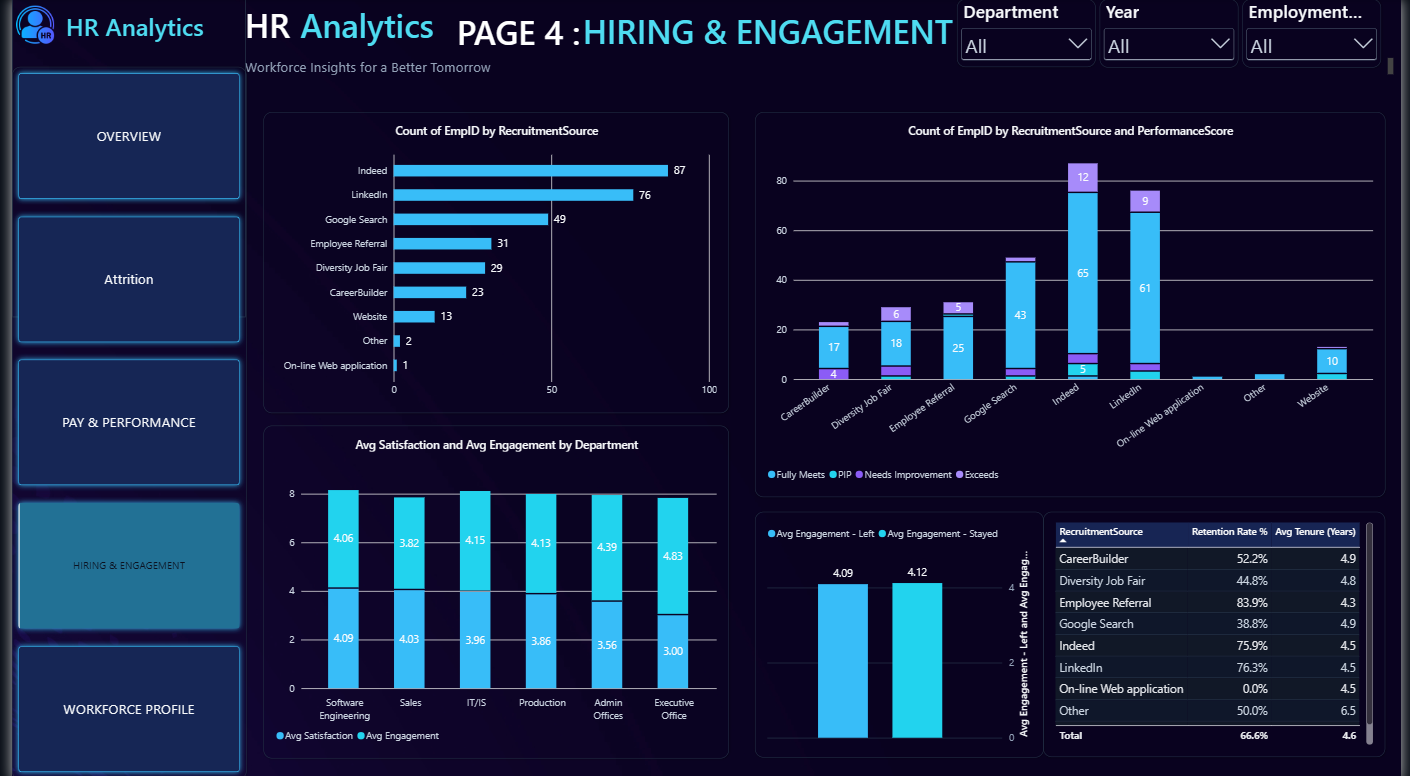

The page's visual inventory and layout, read from the dashboard file:
{"tool":"powerbi","page":{"name":"HIRING & ENGAGEMENT","canvas":[1920,1080],"ordinal":3},"visuals":[{"type":"group","id":"g1","title":"Group 6","box":[322.5,0,1597,105],"z":0},{"type":"textbox","title":"HR ","box":[322.5,0,1597,105],"z":0,"group":"g1"},{"type":"shape","box":[0,0,323.3,440],"z":1000},{"type":"textbox","title":"PAGE 4 :","box":[616,9.2,187.6,73.5],"z":2000},{"type":"image","box":[2.5,3.5,60,62.5],"z":3000},{"type":"textbox","title":"HR Analytics","box":[62.5,10,212.5,51.2],"z":4000},{"type":"textbox","title":"Analytics","box":[397.5,0,200,70],"z":5000},{"type":"slicer","fields":{"Values":["HRDataset_v14.Department"]},"box":[1306.4,0,192.2,93.9],"z":6000},{"type":"slicer","fields":{"Values":["DimDate.Year"]},"box":[1503.2,0,192.2,95.2],"z":7000},{"type":"slicer","fields":{"Values":["HRDataset_v14.EmploymentStatus"]},"box":[1700,0,192.2,95.2],"z":8000},{"type":"pageNavigator","box":[0,94.2,324.1,985.5],"z":9000},{"type":"textbox","title":"HIRING & ENGAGEMENT","box":[789,7,569.4,72.3],"z":10000},{"type":"barChart","fields":{"Category":["HRDataset_v14.RecruitmentSource"],"Y":["CountNonNull(HRDataset_v14.EmpID)"]},"box":[348.2,155.5,643.9,416.1],"z":11000},{"type":"columnChart","fields":{"Category":["HRDataset_v14.RecruitmentSource"],"Series":["HRDataset_v14.PerformanceScore"],"Y":["CountNonNull(HRDataset_v14.EmpID)"]},"box":[1027.1,155.5,871.6,532.2],"z":12000},{"type":"tableEx","fields":{"Values":["HRDataset_v14.RecruitmentSource","measure.Retention Rate %","measure.Avg Tenure (Years)"]},"box":[1425.7,709.6,473,339.5],"z":13000},{"type":"columnChart","fields":{"Category":["HRDataset_v14.Department"],"Y":["measure.Avg Satisfaction","measure.Avg Engagement"]},"box":[348.2,589.1,643.9,459.9],"z":14000},{"type":"clusteredColumnChart","fields":{"Y":["measure.Avg Engagement - Left","measure.Avg Engagement - Stayed"]},"box":[1026.4,709.5,399.5,339.8],"z":15000}]}

Visuals, with their boxes in screenshot pixels (x1, y1, x2, y2), scaled from the page's 1920x1080 canvas onto the 1410x776 screenshot:
"Group 6" group: (237, 0, 1409, 75)
"HR " textbox: (237, 0, 1409, 75)
shape: (0, 0, 237, 316)
"PAGE 4 :" textbox: (452, 7, 590, 59)
image: (2, 3, 46, 47)
"HR Analytics" textbox: (46, 7, 202, 44)
"Analytics" textbox: (292, 0, 439, 50)
slicer - HRDataset_v14.Department: (959, 0, 1101, 67)
slicer - DimDate.Year: (1104, 0, 1245, 68)
slicer - HRDataset_v14.EmploymentStatus: (1248, 0, 1390, 68)
pageNavigator: (0, 68, 238, 775)
"HIRING & ENGAGEMENT" textbox: (579, 5, 998, 57)
barChart - HRDataset_v14.RecruitmentSource x CountNonNull(HRDataset_v14.EmpID): (256, 112, 729, 411)
columnChart - HRDataset_v14.RecruitmentSource x HRDataset_v14.PerformanceScore: (754, 112, 1394, 494)
tableEx - HRDataset_v14.RecruitmentSource x measure.Retention Rate %: (1047, 510, 1394, 754)
columnChart - HRDataset_v14.Department x measure.Avg Satisfaction: (256, 423, 729, 754)
clusteredColumnChart - measure.Avg Engagement - Left x measure.Avg Engagement - Stayed: (754, 510, 1047, 754)
